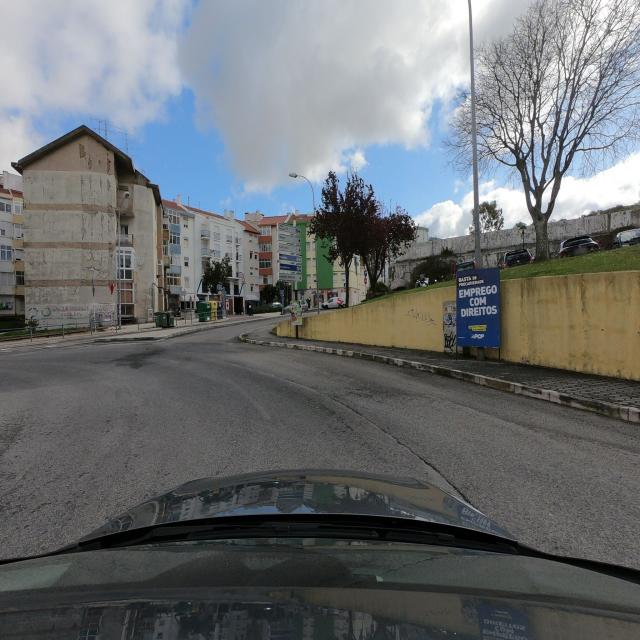car: (558, 236, 600, 258), (500, 248, 535, 268), (321, 296, 345, 310), (269, 301, 283, 312)
